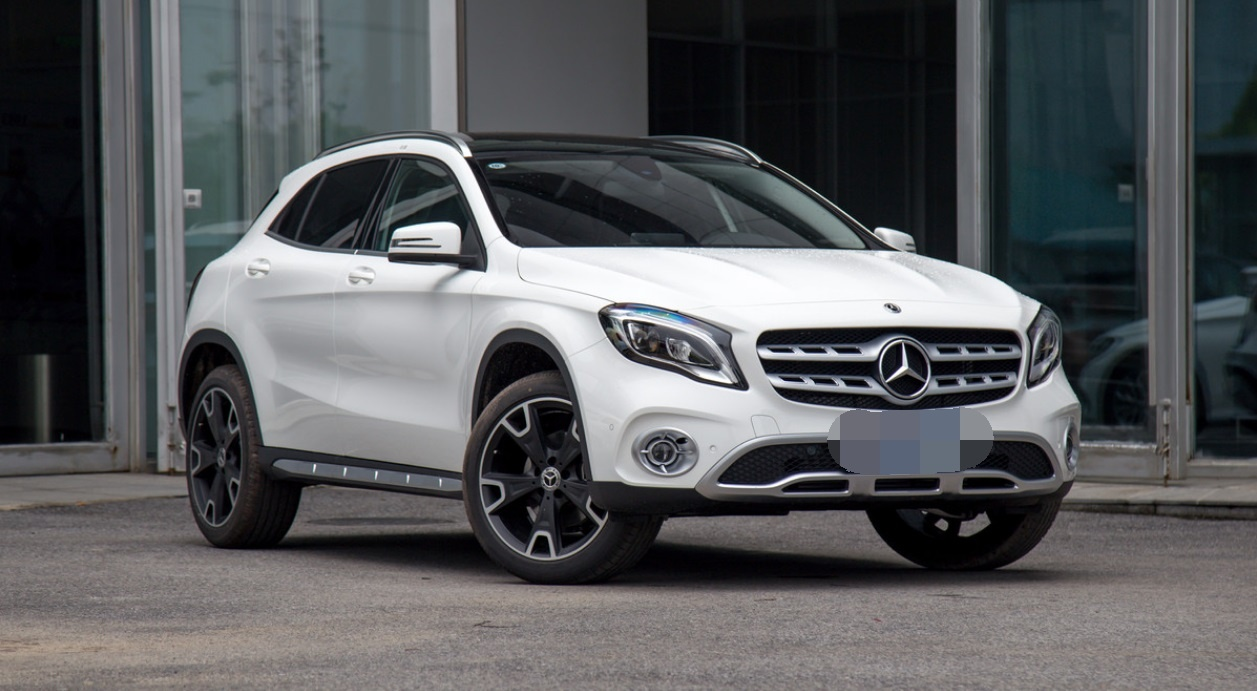SUV: (185, 95, 1118, 581)
